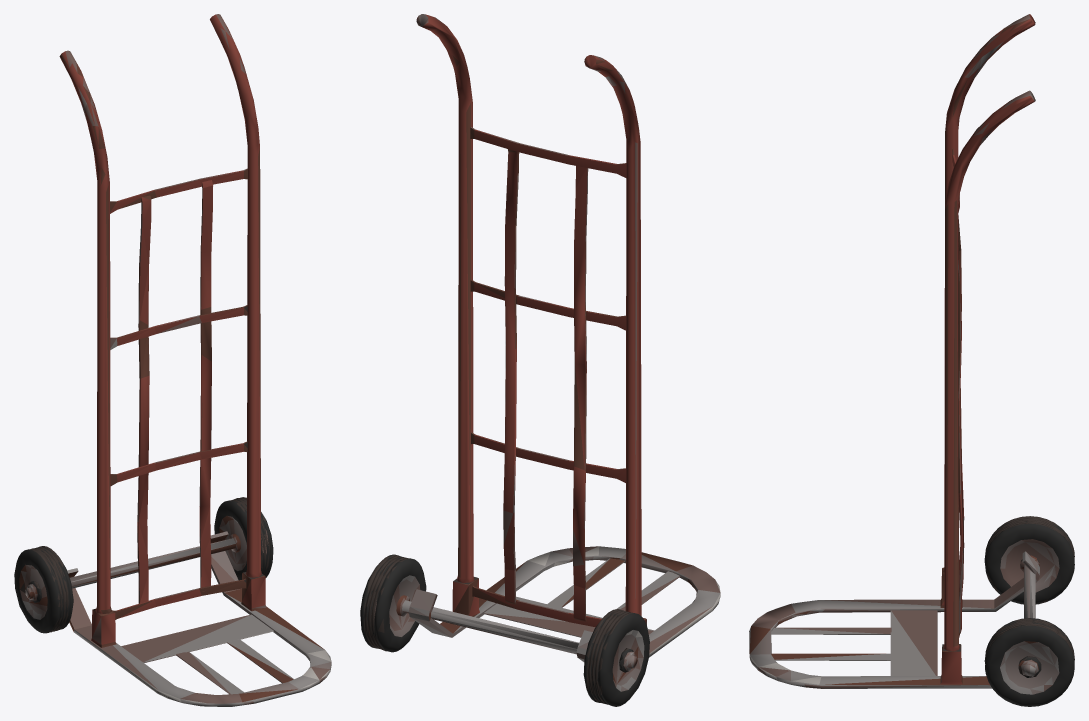
File: hand-truck.glb
3 views of the same model, side by side, from view 1: azimuth 30°, elevation 25°; view 2: azimuth 150°, elevation 25°; view 3: azimuth 270°, elevation 25° (orthographic). The views are drawn at different scales.
Visible parts, largest first — view 1: hand-truck; view 2: hand-truck; view 3: hand-truck.
Boxes of the visible parts, x1=… form: hand-truck: x1=14, y1=14, x2=331, y2=706; hand-truck: x1=360, y1=14, x2=720, y2=706; hand-truck: x1=749, y1=14, x2=1074, y2=706.
Bounding box in the file's own units: 0.5933 × 1.4 × 0.692.
